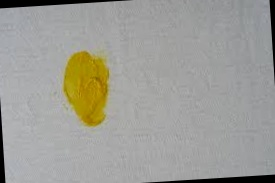mustard: (59, 47, 116, 131)
